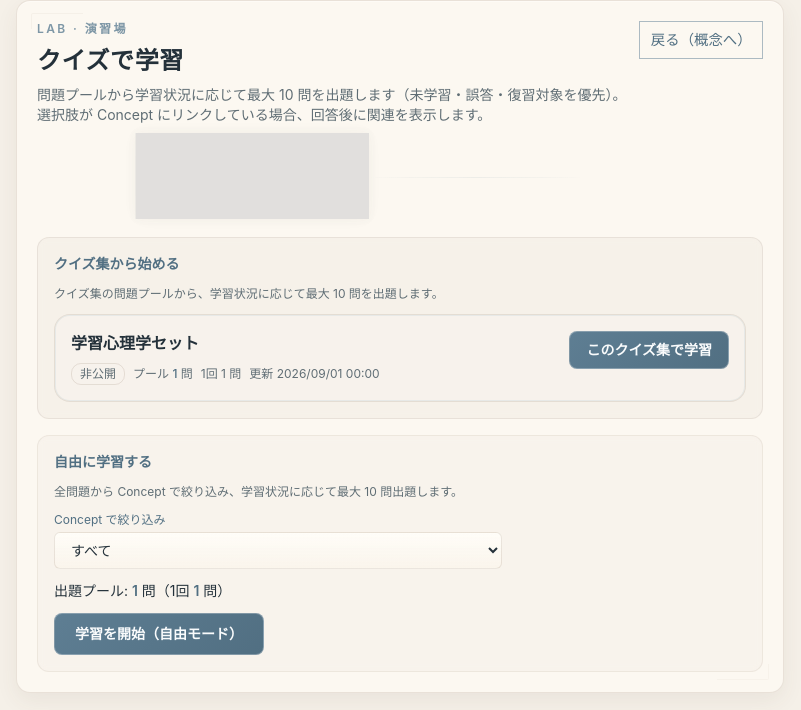
Test case: QuizPlayPage 導入 UI 整理 (#174) › play 開始後は問題・選択肢を上部に出し、setup 導入 UI を残さない
Click the button with aria-label "クイズ集「学習心理学セット」で学習を開始".
click(649, 350)  # box [569,331,729,369]
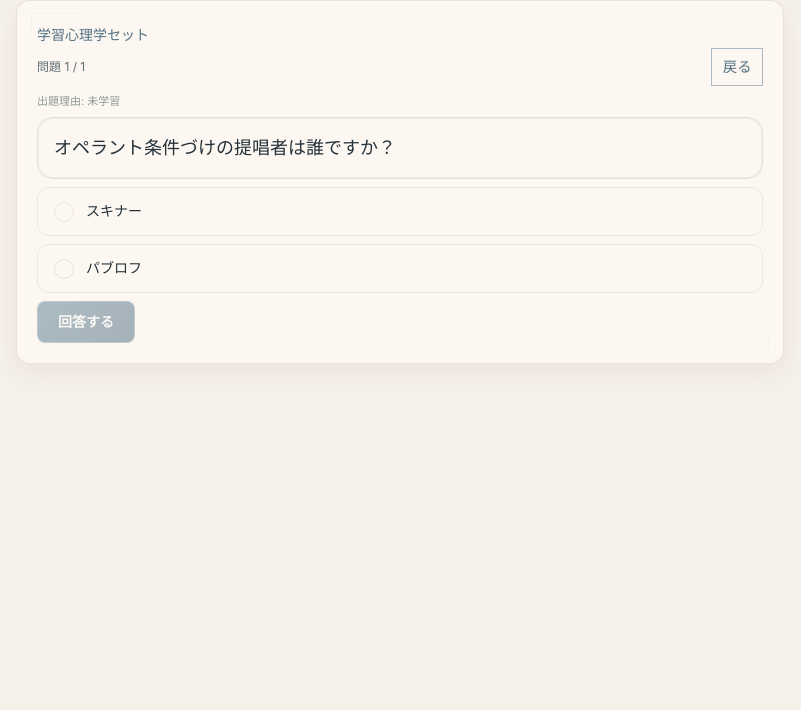
Now the text "オペラント条件づけの提唱者は誰ですか？" is shown, box [54,137,396,158]
Now the text "問題 1 / 1" is shown, box [37,59,85,76]
Now the radio button labelled "スキナー" is shown, box [37,187,763,236]
